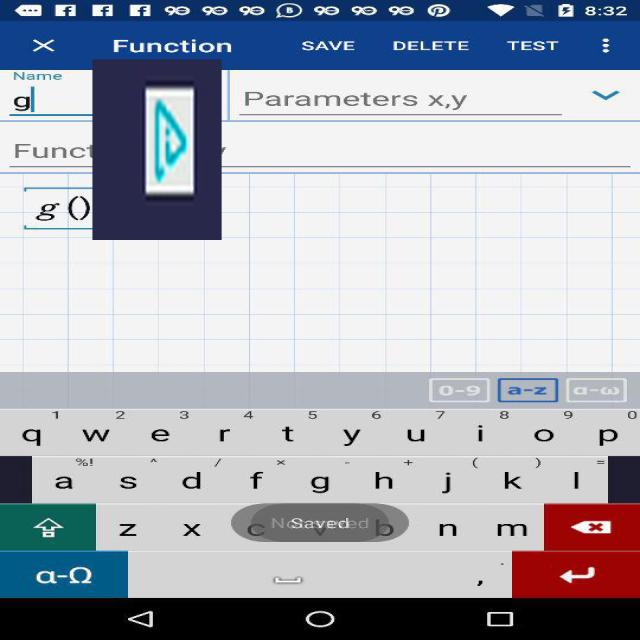sneaking: (92, 59, 222, 240)
